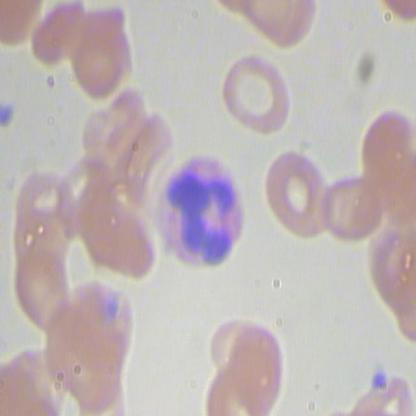Platelets: (370, 366, 394, 394), (1, 98, 18, 129)
RBC: (218, 47, 303, 141), (262, 147, 336, 237), (66, 10, 134, 101), (226, 322, 287, 415), (12, 239, 72, 333), (315, 174, 389, 246)
WBC: (137, 149, 253, 281)
